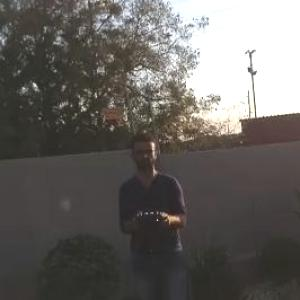follow: (114, 124, 192, 299)
